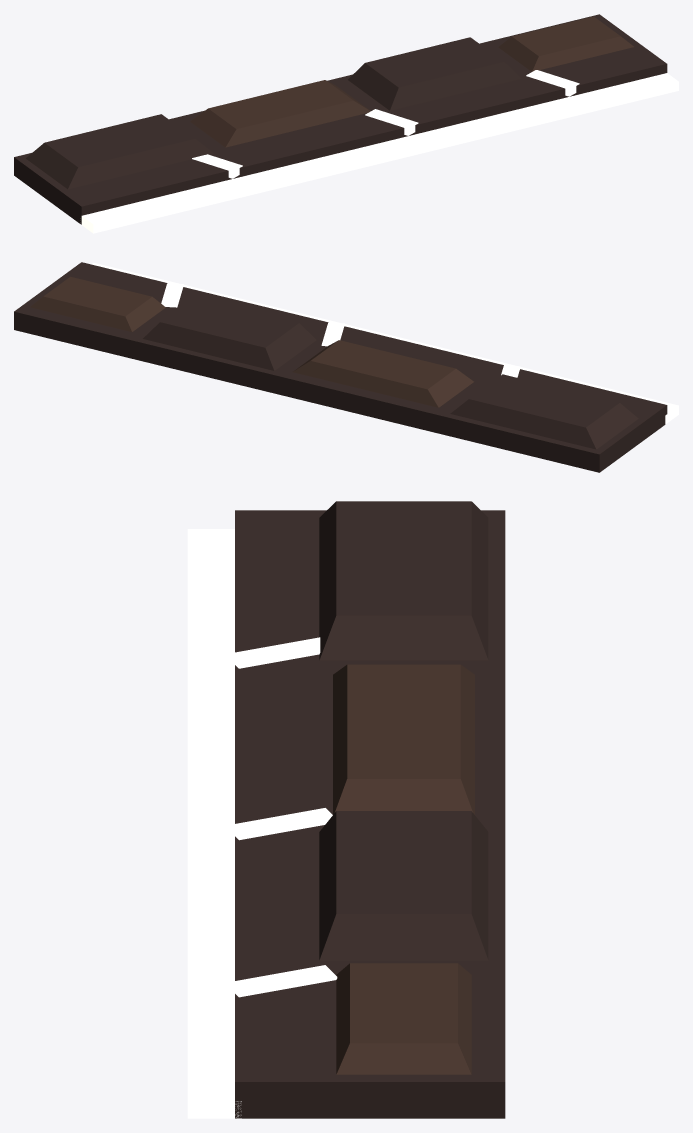
The model's file is lava_rim_4m.glb.
The picture shows the model from 3 angles, top to bottom: view 1: azimuth 30°, elevation 25°; view 2: azimuth 150°, elevation 25°; view 3: azimuth 270°, elevation 25°; orthographic projection. The views are drawn at different scales.
Visible parts, largest first — view 1: lava_rim_4m; view 2: lava_rim_4m; view 3: lava_rim_4m.
Part boxes in pixels (left/top/right/bottom): lava_rim_4m: left=14, top=14, right=678, bottom=233; lava_rim_4m: left=14, top=262, right=678, bottom=472; lava_rim_4m: left=187, top=501, right=505, bottom=1118.
Bounding box in the file's own units: 4 × 0.23 × 0.94.
